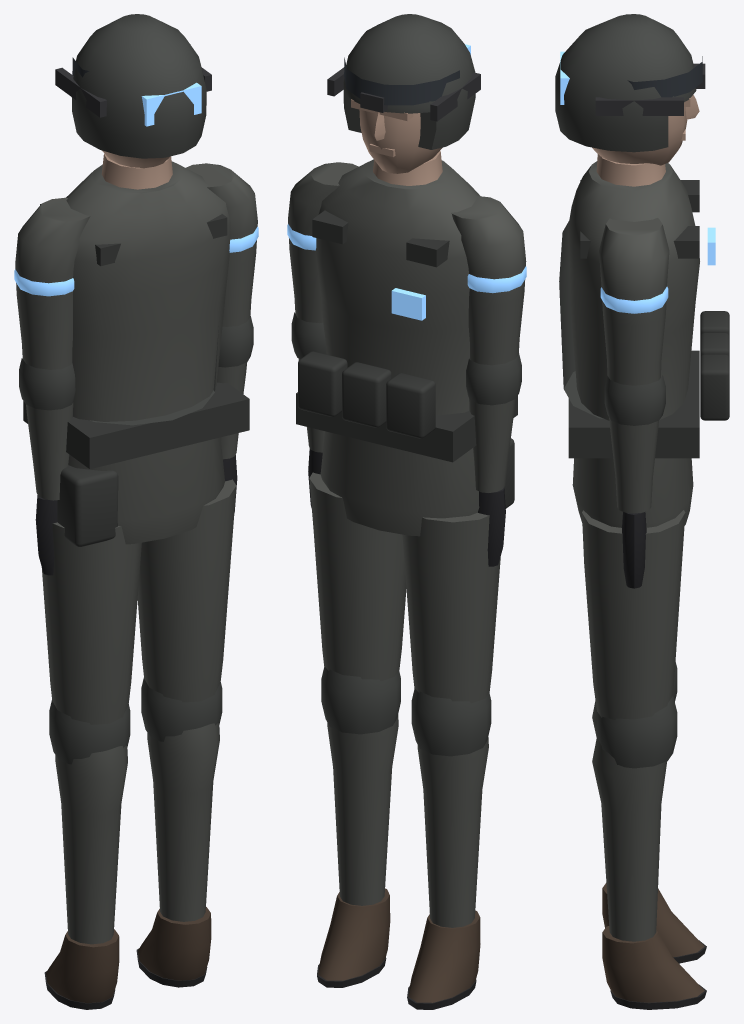
File: char_vanguard.glb
3 views of the same model, side by side, from view 1: azimuth 30°, elevation 25°; view 2: azimuth 150°, elevation 25°; view 3: azimuth 270°, elevation 25° (orthographic).
Visible parts, largest first — view 1: char_vanguard; view 2: char_vanguard; view 3: char_vanguard.
Boxes of the visible parts, left/top/right/bottom form: char_vanguard: left=14, top=14, right=258, bottom=1009; char_vanguard: left=287, top=14, right=526, bottom=1009; char_vanguard: left=555, top=14, right=729, bottom=1009.
Size of what is drawn, in the model's own units: 0.47 by 1.85 by 0.3069.
